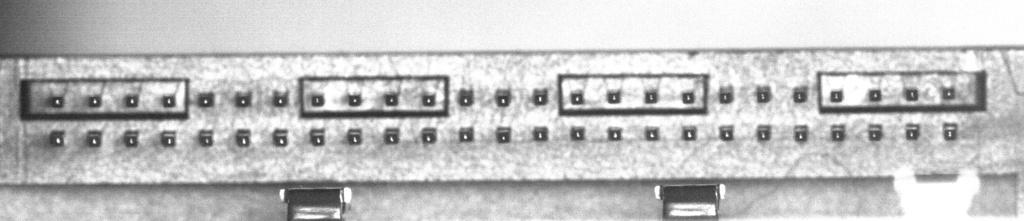pin_ok: (942, 123, 959, 141), (272, 128, 289, 146), (272, 89, 289, 107), (160, 130, 177, 147), (235, 90, 252, 107), (49, 129, 66, 146), (532, 88, 549, 105), (495, 88, 511, 106), (458, 88, 474, 106), (235, 128, 251, 146), (197, 91, 215, 107), (384, 127, 400, 144), (86, 130, 102, 147), (198, 129, 214, 146), (309, 128, 325, 145), (123, 130, 139, 147), (793, 126, 809, 142), (458, 126, 474, 142), (756, 125, 772, 141), (421, 128, 437, 144), (830, 125, 846, 141), (905, 124, 921, 140), (496, 126, 511, 143), (868, 124, 883, 141), (532, 126, 548, 141), (347, 128, 362, 144), (644, 126, 660, 141), (793, 87, 808, 103), (756, 86, 771, 102), (719, 87, 733, 104), (719, 125, 734, 140), (682, 126, 697, 141), (941, 85, 956, 100), (607, 126, 622, 140), (570, 126, 585, 140), (161, 94, 176, 108), (347, 92, 362, 106), (681, 90, 695, 104), (570, 90, 584, 104), (868, 88, 882, 102), (644, 89, 658, 103), (125, 94, 139, 108), (905, 87, 919, 101), (607, 89, 621, 103), (310, 93, 324, 107), (422, 92, 436, 106), (384, 93, 398, 106), (87, 95, 101, 108), (830, 89, 843, 103), (51, 96, 64, 108)
